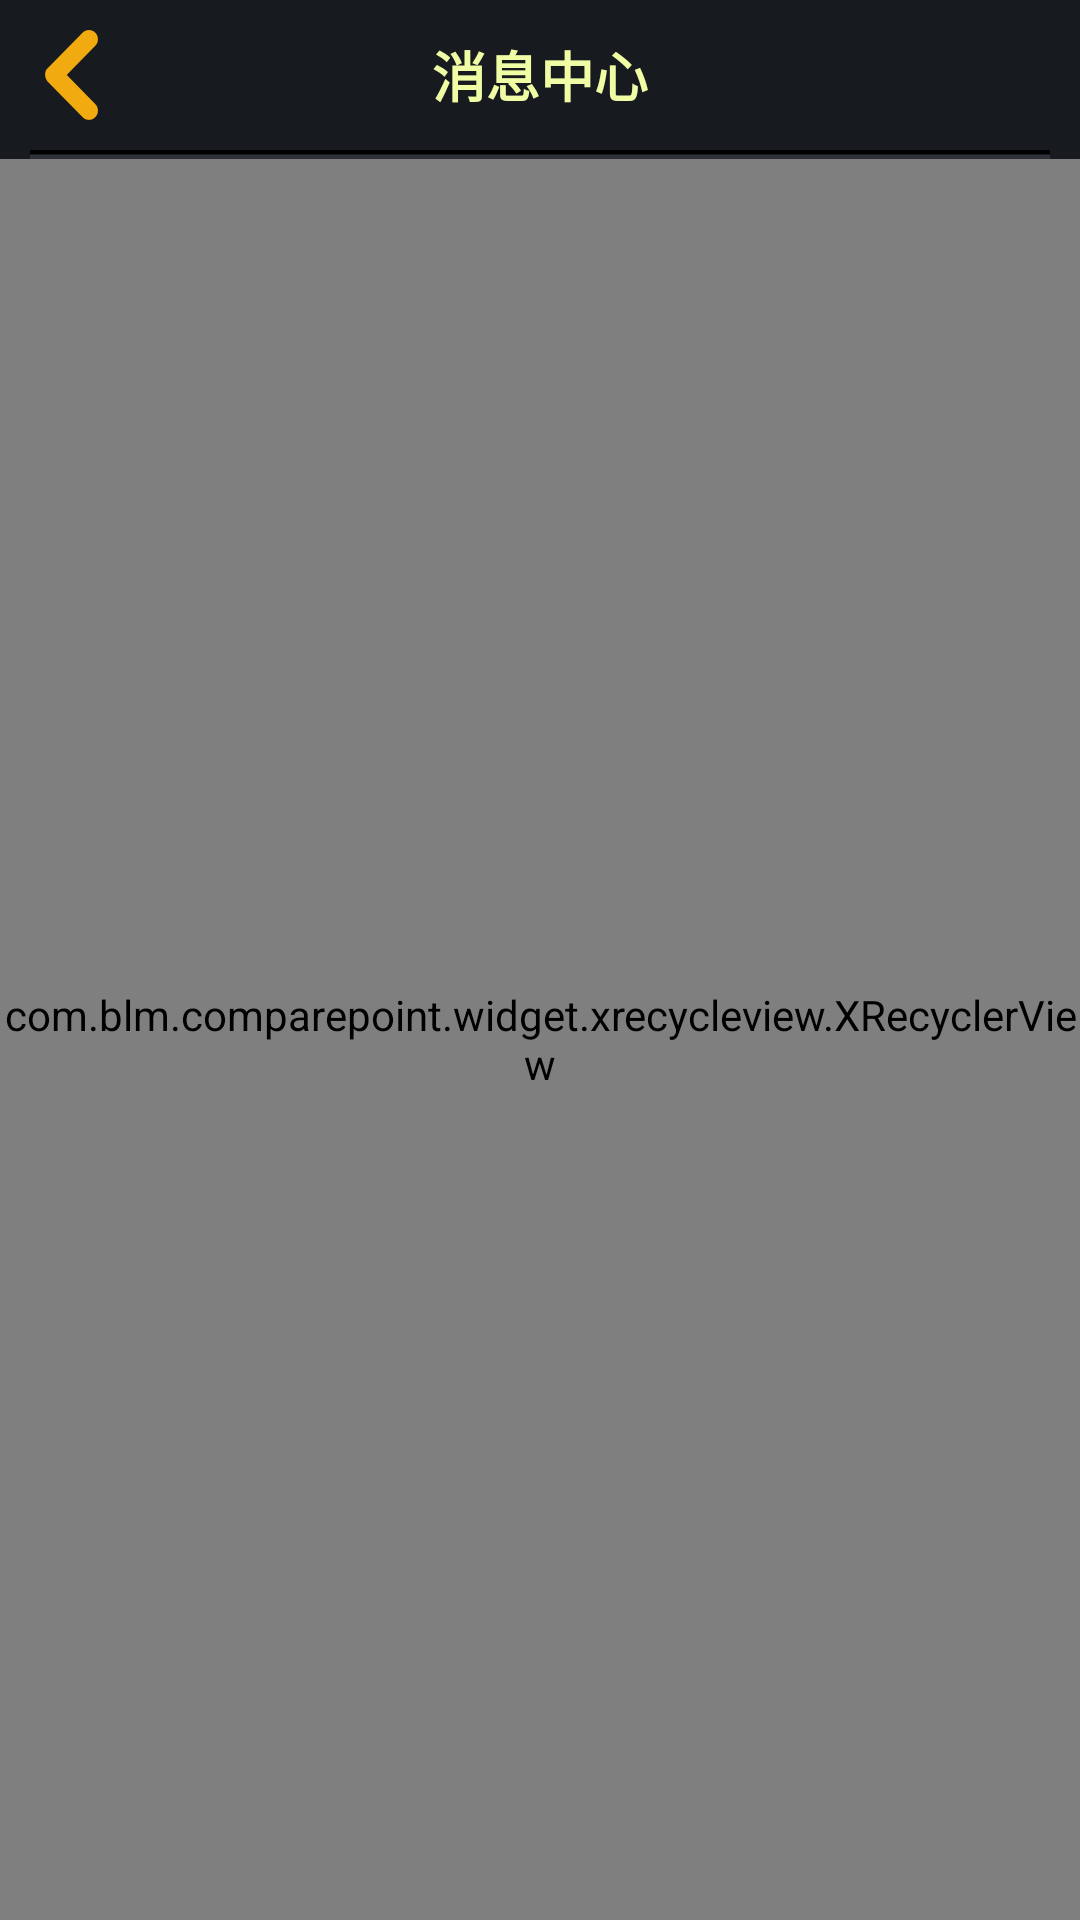

Screen size 1080px×1920px. Icon name, then its center in pixels as [x,y]:
back: [71,75]
